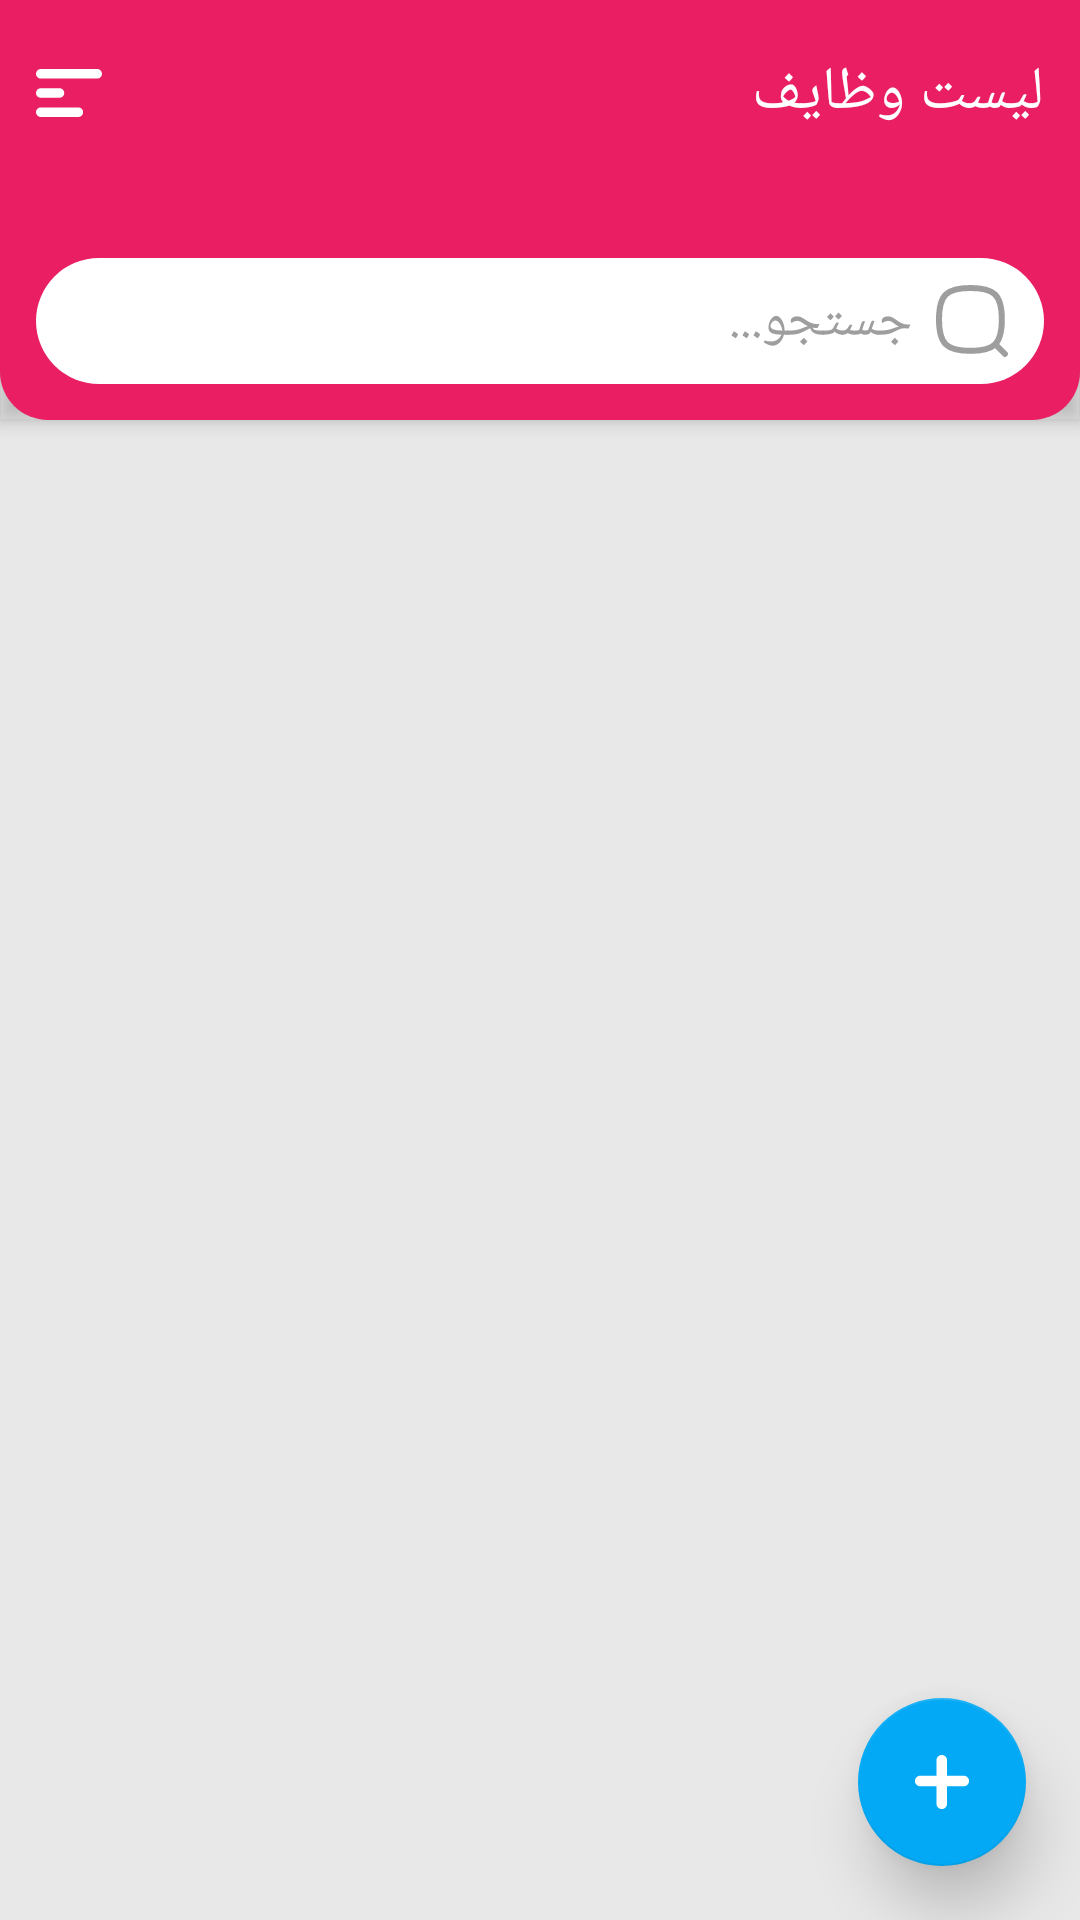

Locate icon controls on the screen. Image size 1080 × 1920, boxes as (x1, y1, x2, y2).
align left: (36, 69, 102, 117)
plus: (858, 1698, 1026, 1866)
